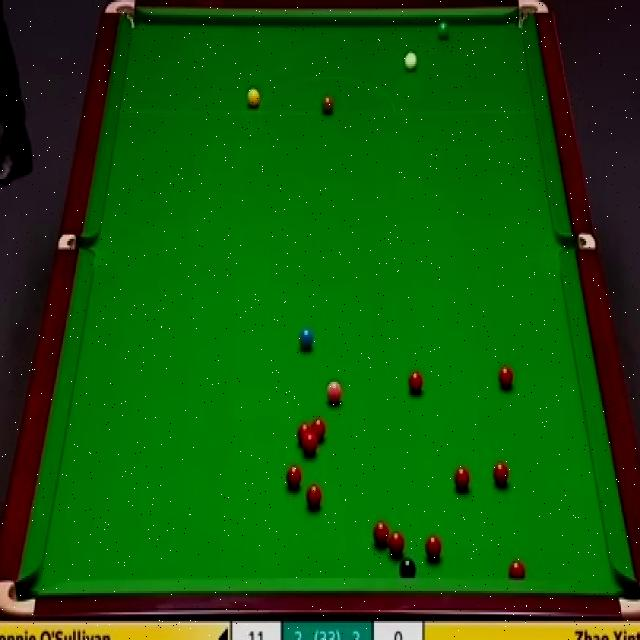black-ball: (399, 555, 416, 579)
blue-ball: (298, 326, 316, 349)
brown-ball: (321, 91, 334, 113)
green-ball: (436, 21, 451, 41)
pink-ball: (326, 381, 343, 407)
red-ball: (424, 535, 443, 564), (453, 466, 472, 493), (282, 466, 303, 490), (389, 528, 405, 559), (407, 367, 424, 396), (372, 521, 390, 548), (493, 461, 511, 487), (300, 491, 320, 513), (296, 422, 312, 449), (497, 365, 513, 391), (312, 417, 326, 443), (303, 436, 319, 457), (508, 559, 526, 577)
white-ball: (405, 50, 417, 75)
yellow-ball: (246, 90, 259, 107)
